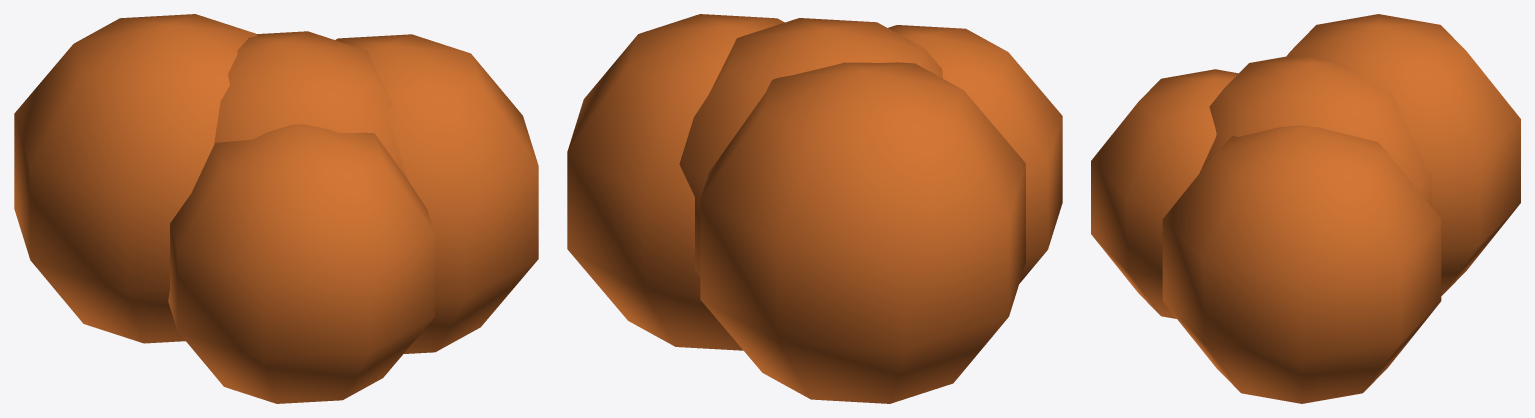
The model's file is prop_bushfalsea_6209.glb.
3 views of the same model, side by side, from view 1: azimuth 30°, elevation 25°; view 2: azimuth 150°, elevation 25°; view 3: azimuth 270°, elevation 25° (orthographic). The views are drawn at different scales.
Parts seen in each view (by area): view 1: prop_bushfalsea_6209; view 2: prop_bushfalsea_6209; view 3: prop_bushfalsea_6209.
Boxes of the visible parts, x1,y1,x2,y2 form: prop_bushfalsea_6209: (14,14,538,403); prop_bushfalsea_6209: (567,14,1062,403); prop_bushfalsea_6209: (1091,14,1520,403).
Bounding box in the file's own units: 0.6961 × 0.4895 × 0.6518.
Materials: 1 (1 with a texture image).
